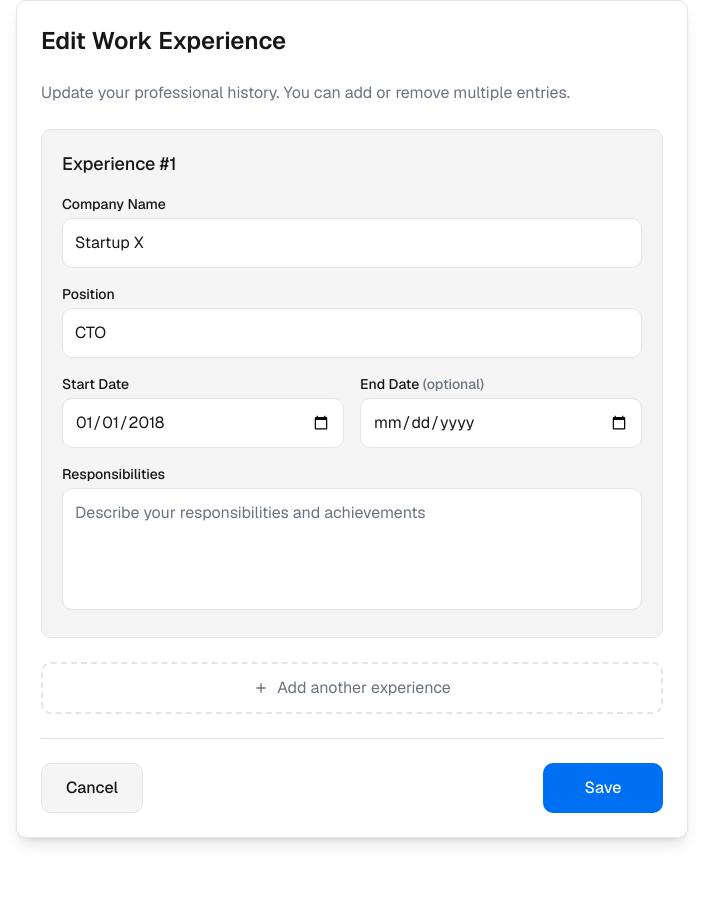
Scenario: EditWorkExperienceForm Component › Zapisywanie danych i walidacja (PUT) › powinien poprawnie sformatować zaktualizowane dane (daty do ISO) i wysłać je przez API
The width and height of the screenshot is (705, 900).
Replace the text in the field with placeholder "e.g. ABC Inc." with "Nowa Firma S.A." at (352, 243), box [62,218,642,268]
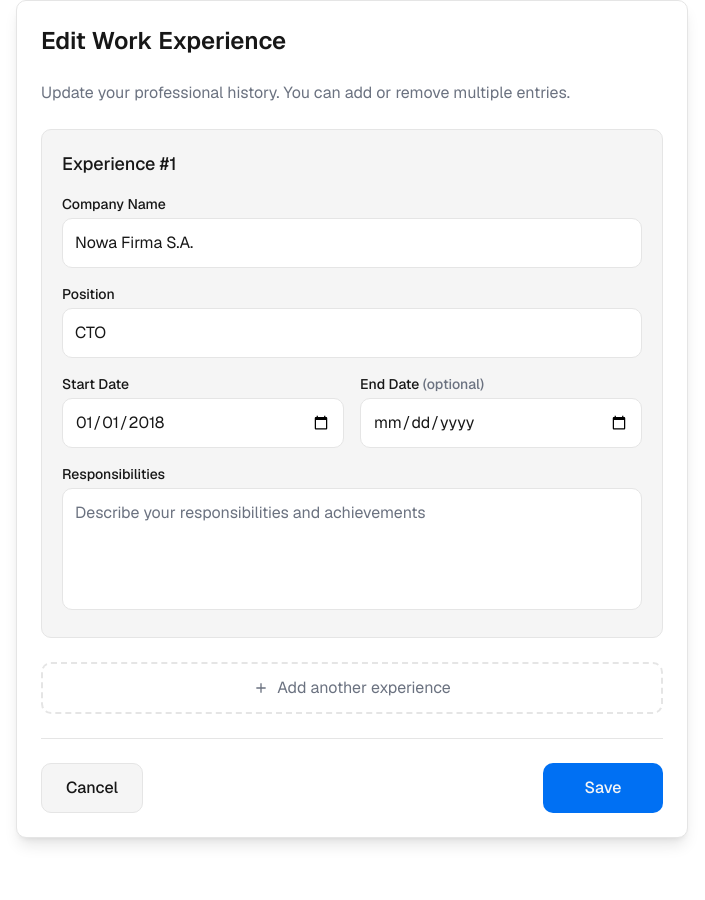
Replace the text in the field with placeholder "e.g. Software Engineer" with "Dyrektor" at (352, 333), box [62,308,642,358]
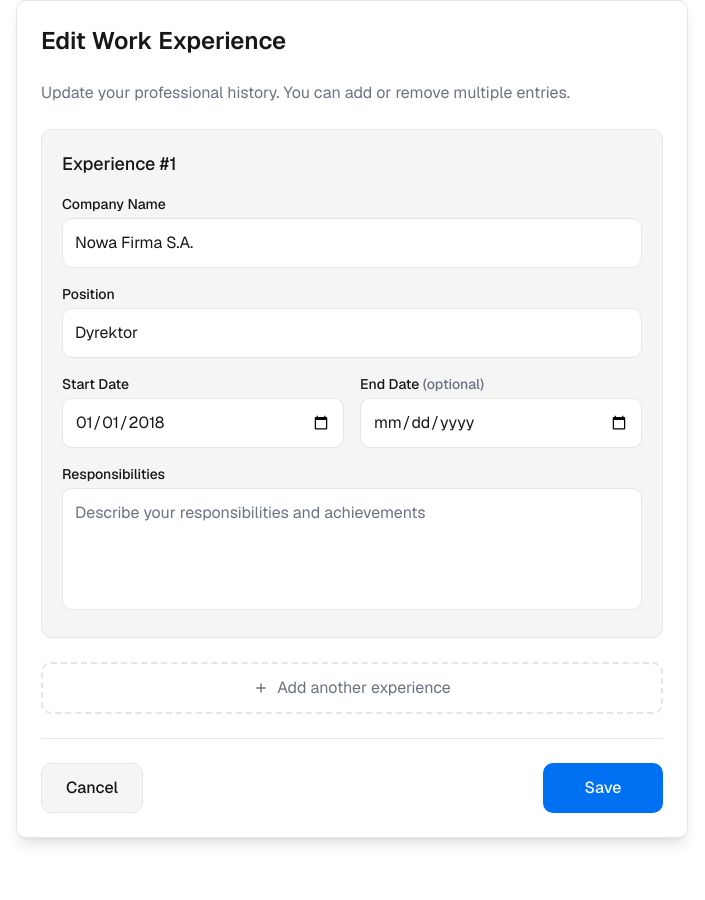
Type "2020-05-15" into the date field labelled "Start Date" at (203, 423), box [62,398,344,448]
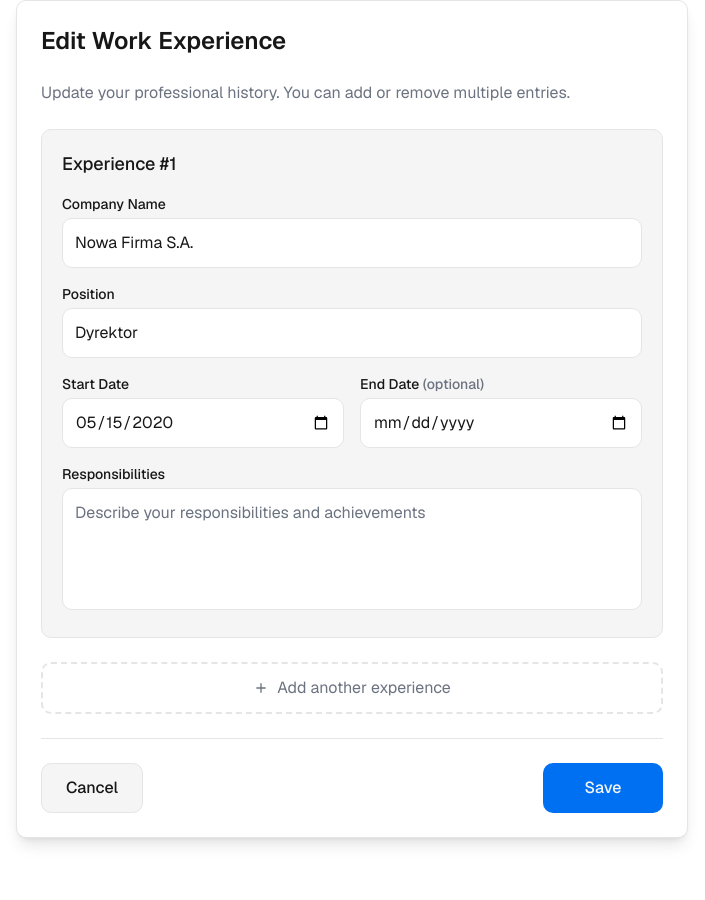
Type "2024-01-10" into the date field labelled "End Date (optional)" at (501, 423), box [360,398,642,448]
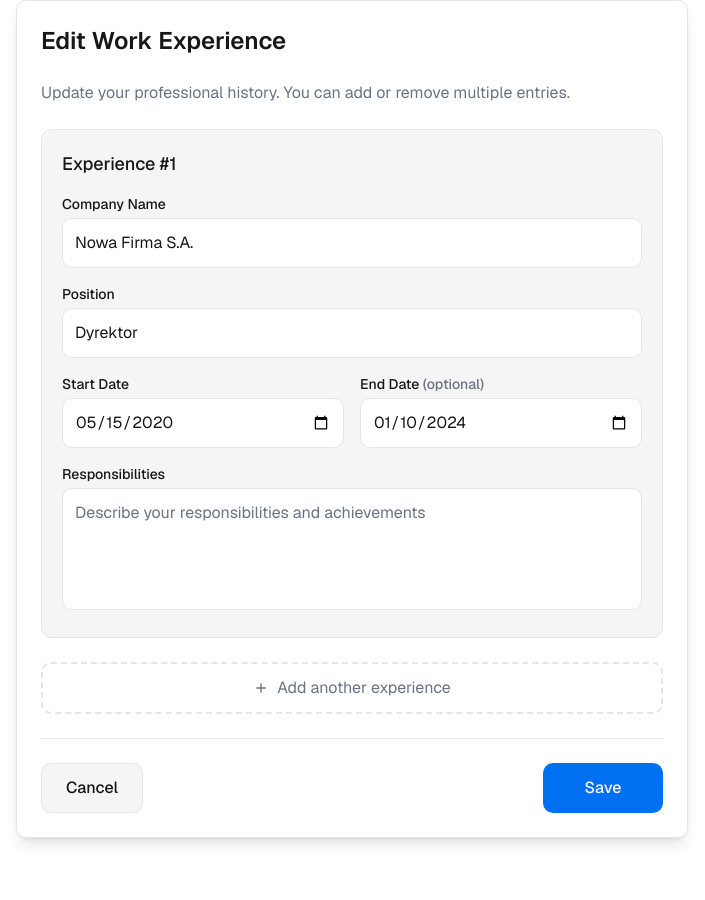
Click the button "Save" at (603, 788), box [543,763,663,813]
Wait 1500 ms
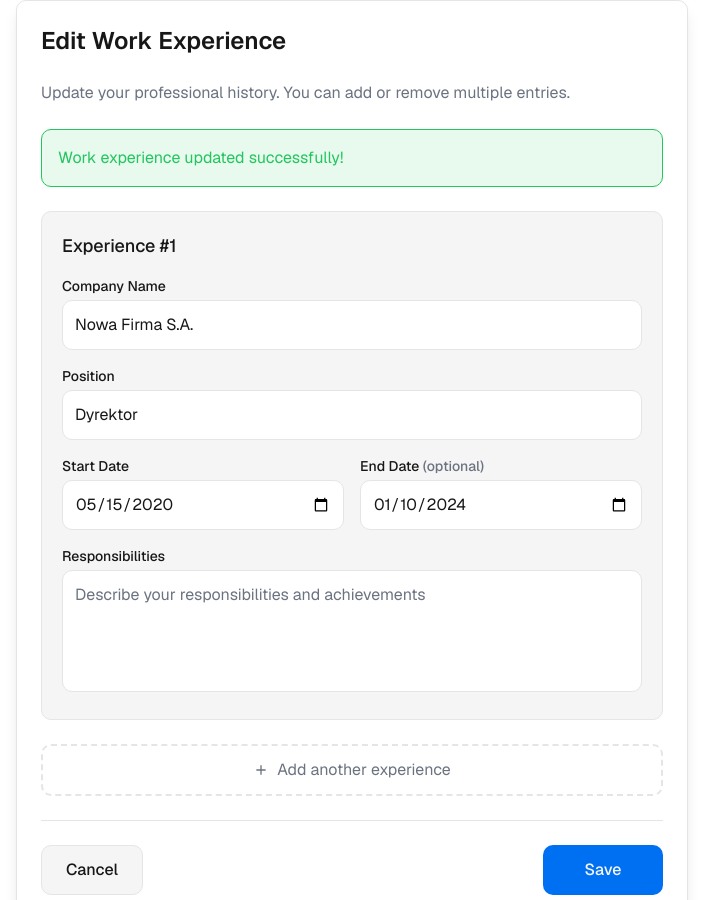
Result: the text "Work experience updated successfully!" is shown at [41,129,663,187]
